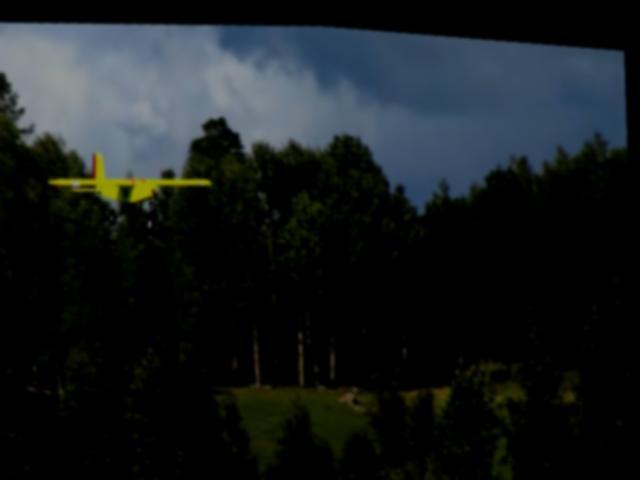plane: (44, 140, 219, 240)
